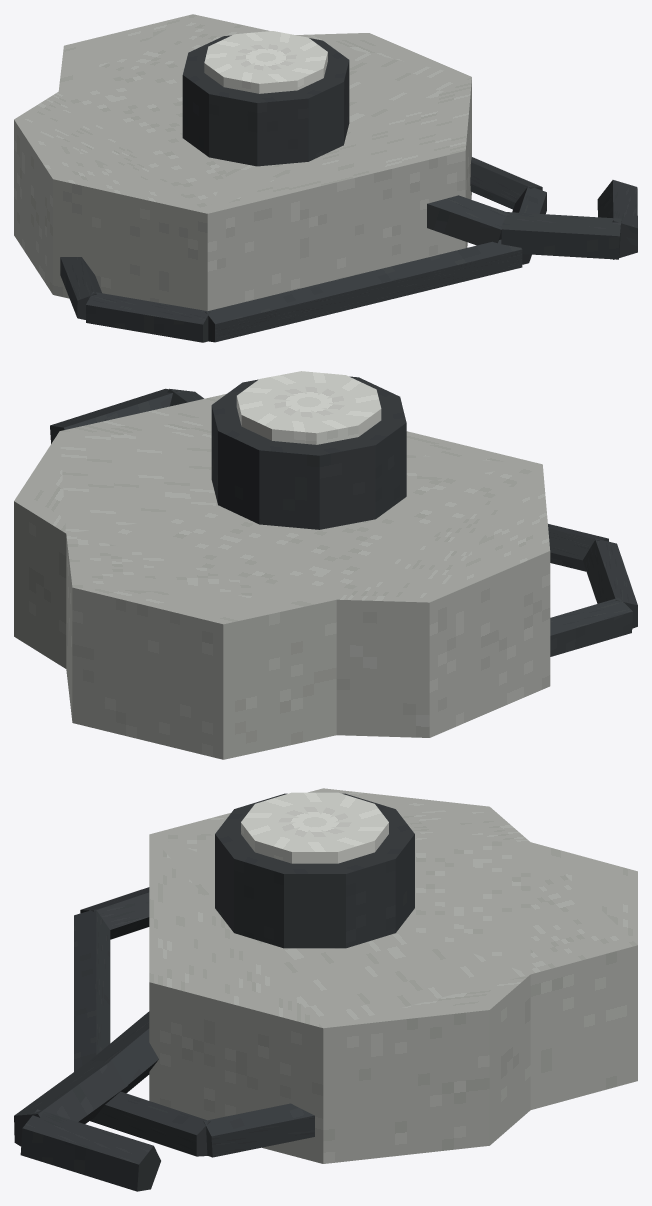
Rendered from papr_half_mask.glb.
The picture shows the model from 3 angles, top to bottom: view 1: azimuth 30°, elevation 25°; view 2: azimuth 150°, elevation 25°; view 3: azimuth 270°, elevation 25°; orthographic projection. The views are drawn at different scales.
Visible parts, largest first — view 1: block_contoured face shell, block_filter housing, block_strap 2, block_filter face, block_air hose 1, block_strap 1, block_air hose 0, block_air hose 2, block_strap 4, block_strap 0, block_strap 3; view 2: block_contoured face shell, block_filter housing, block_filter face, block_strap 0, block_strap 1, block_air hose 2, block_strap 2; view 3: block_contoured face shell, block_filter housing, block_filter face, block_air hose 2, block_strap 2, block_strap 3, block_strap 4, block_air hose 1, block_air hose 0, block_strap 1.
Boxes of the visible parts, x1=… form: block_contoured face shell: x1=14, y1=14, x2=471, y2=310; block_filter housing: x1=182, y1=35, x2=349, y2=166; block_strap 2: x1=205, y1=239, x2=522, y2=342; block_filter face: x1=204, y1=31, x2=327, y2=93; block_air hose 1: x1=501, y1=212, x2=621, y2=259; block_strap 1: x1=86, y1=291, x2=209, y2=342; block_air hose 0: x1=427, y1=195, x2=507, y2=245; block_air hose 2: x1=597, y1=180, x2=637, y2=259; block_strap 4: x1=470, y1=157, x2=542, y2=209; block_strap 0: x1=60, y1=257, x2=101, y2=319; block_strap 3: x1=512, y1=185, x2=546, y2=264; block_contoured face shell: x1=14, y1=393, x2=550, y2=759; block_filter housing: x1=211, y1=376, x2=406, y2=529; block_filter face: x1=236, y1=371, x2=381, y2=444; block_strap 0: x1=550, y1=597, x2=632, y2=656; block_strap 1: x1=582, y1=538, x2=637, y2=628; block_air hose 2: x1=50, y1=388, x2=179, y2=443; block_strap 2: x1=548, y1=524, x2=608, y2=571; block_contoured face shell: x1=149, y1=788, x2=637, y2=1163; block_filter housing: x1=215, y1=793, x2=414, y2=948; block_filter face: x1=241, y1=792, x2=388, y2=863; block_air hose 2: x1=20, y1=1109, x2=160, y2=1191; block_strap 2: x1=74, y1=909, x2=110, y2=1071; block_strap 3: x1=90, y1=1091, x2=210, y2=1156; block_strap 4: x1=203, y1=1103, x2=314, y2=1157; block_air hose 1: x1=14, y1=1060, x2=128, y2=1146; block_air hose 0: x1=89, y1=1011, x2=158, y2=1093; block_strap 1: x1=80, y1=887, x2=149, y2=939.
Size of the model in its own units: 0.1905 by 0.065 by 0.1658.
1 material, 1 textured.
